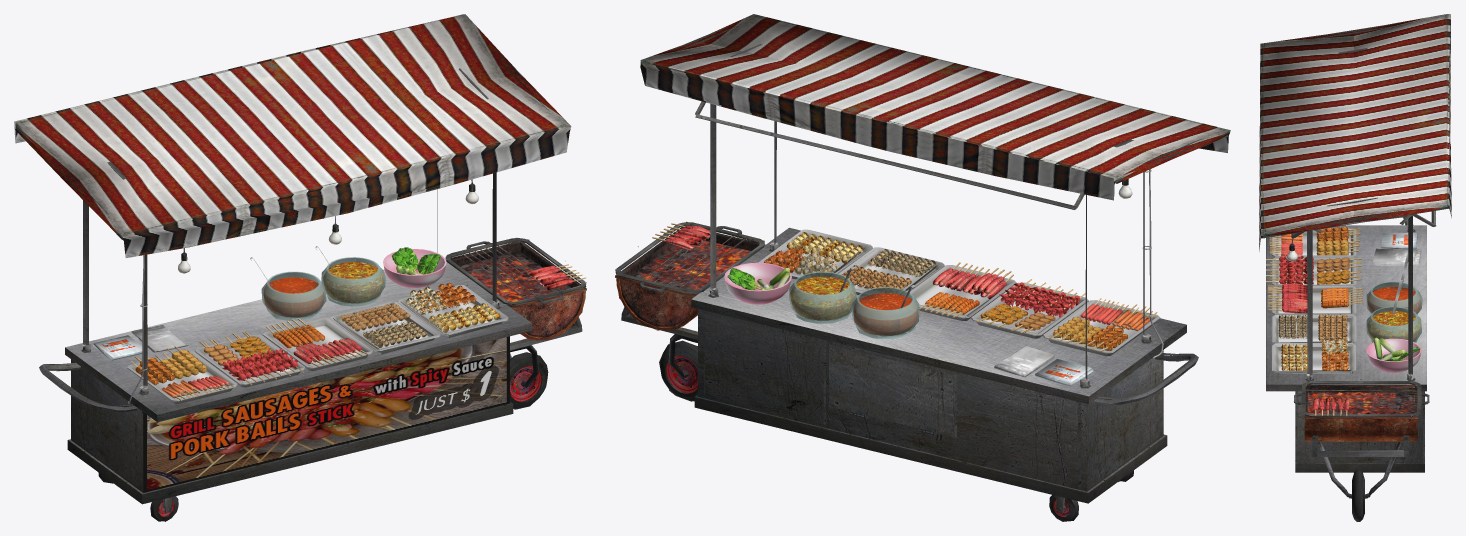
File: food_cart.glb
The picture shows the model from 3 angles, left to right: view 1: azimuth 30°, elevation 25°; view 2: azimuth 150°, elevation 25°; view 3: azimuth 270°, elevation 25°; orthographic projection. The views are drawn at different scales.
Parts seen in each view (by area): view 1: blow_glass_01 - Default_0; view 2: blow_glass_01 - Default_0; view 3: blow_glass_01 - Default_0.
Part boxes in pixels (bbox=[...]): blow_glass_01 - Default_0: bbox=[14, 14, 586, 521]; blow_glass_01 - Default_0: bbox=[615, 14, 1230, 521]; blow_glass_01 - Default_0: bbox=[1259, 14, 1451, 521].
Bounding box in the file's own units: 3.91 × 2.66 × 1.48.
10 materials, 10 textured.
